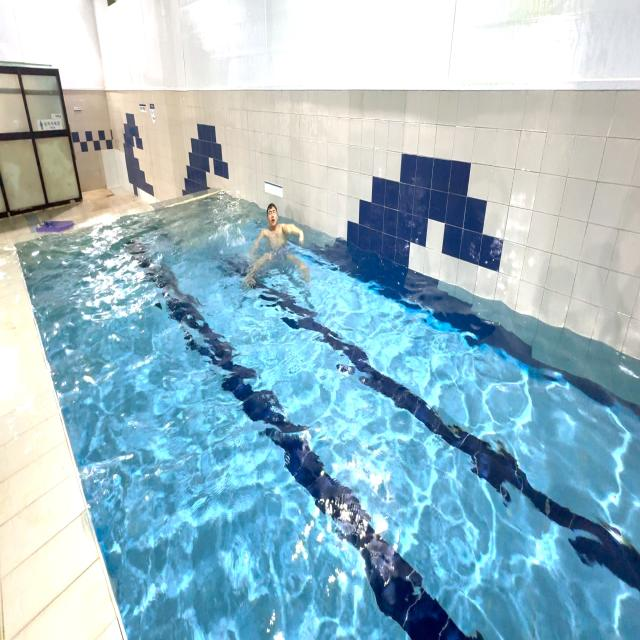Swimming: (238, 190, 313, 298)
